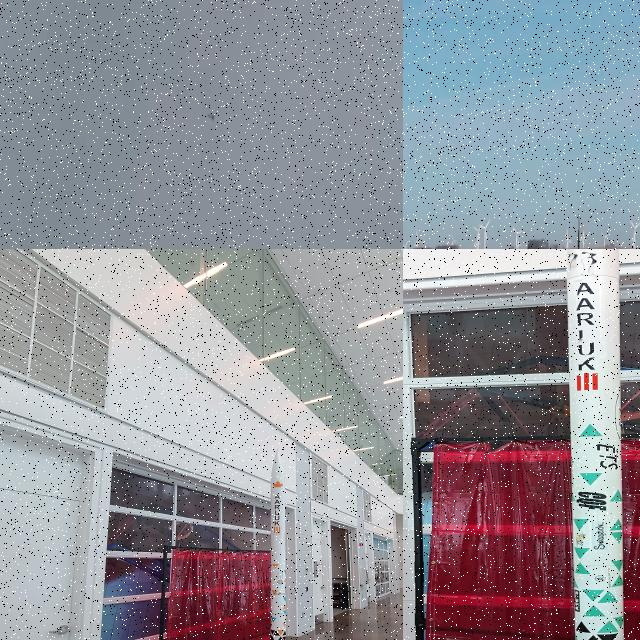Rocket: (566, 249, 625, 640), (270, 448, 286, 640), (207, 114, 215, 123), (577, 229, 580, 249)
